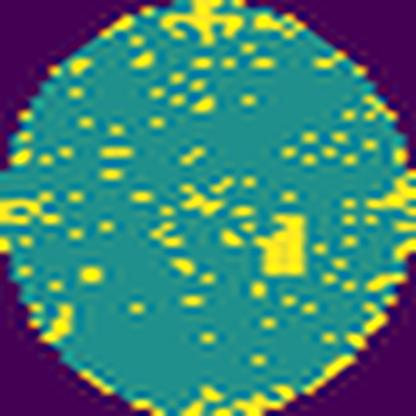Loc: (254, 206, 312, 280)
